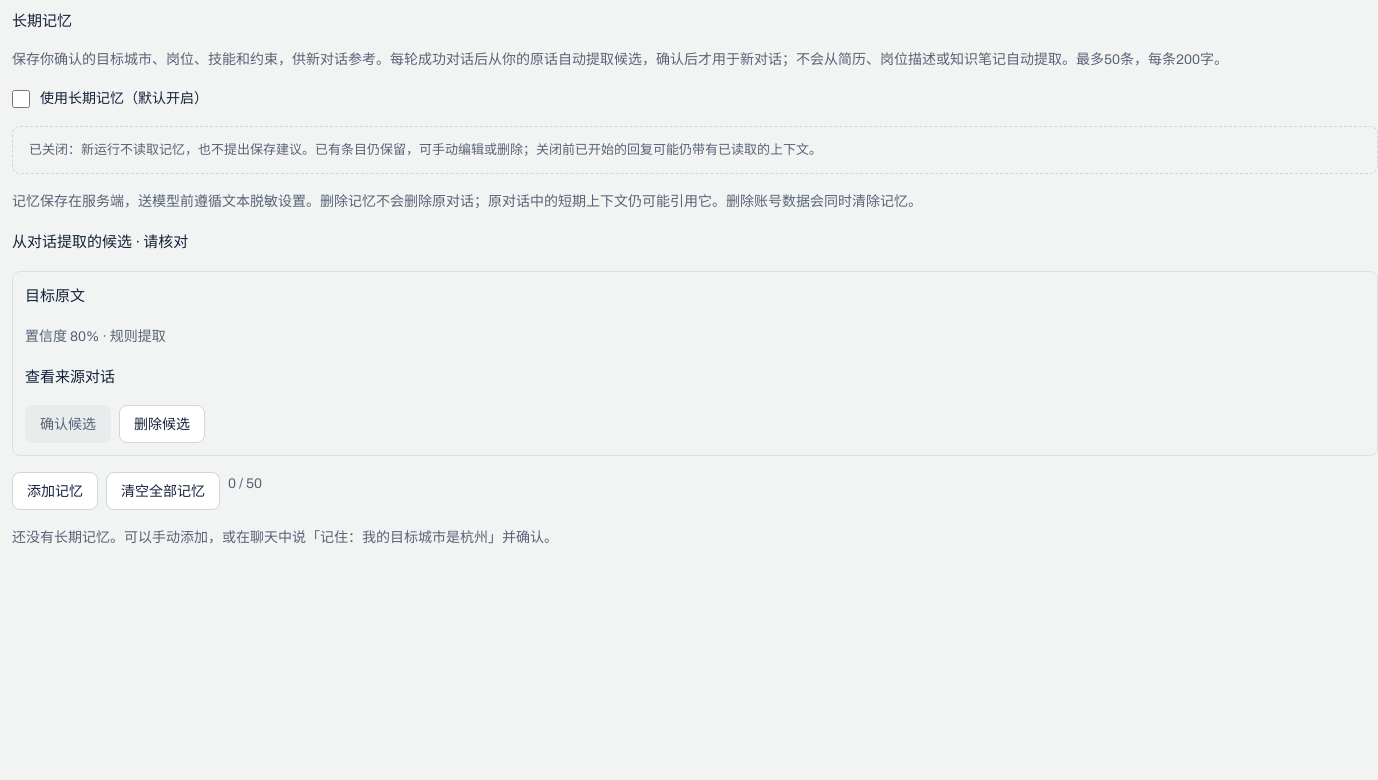
Test: allows clearing pending candidates even when no confirmed memories exist
Click the button "清空全部记忆": point(163, 491) [106,472,220,510]
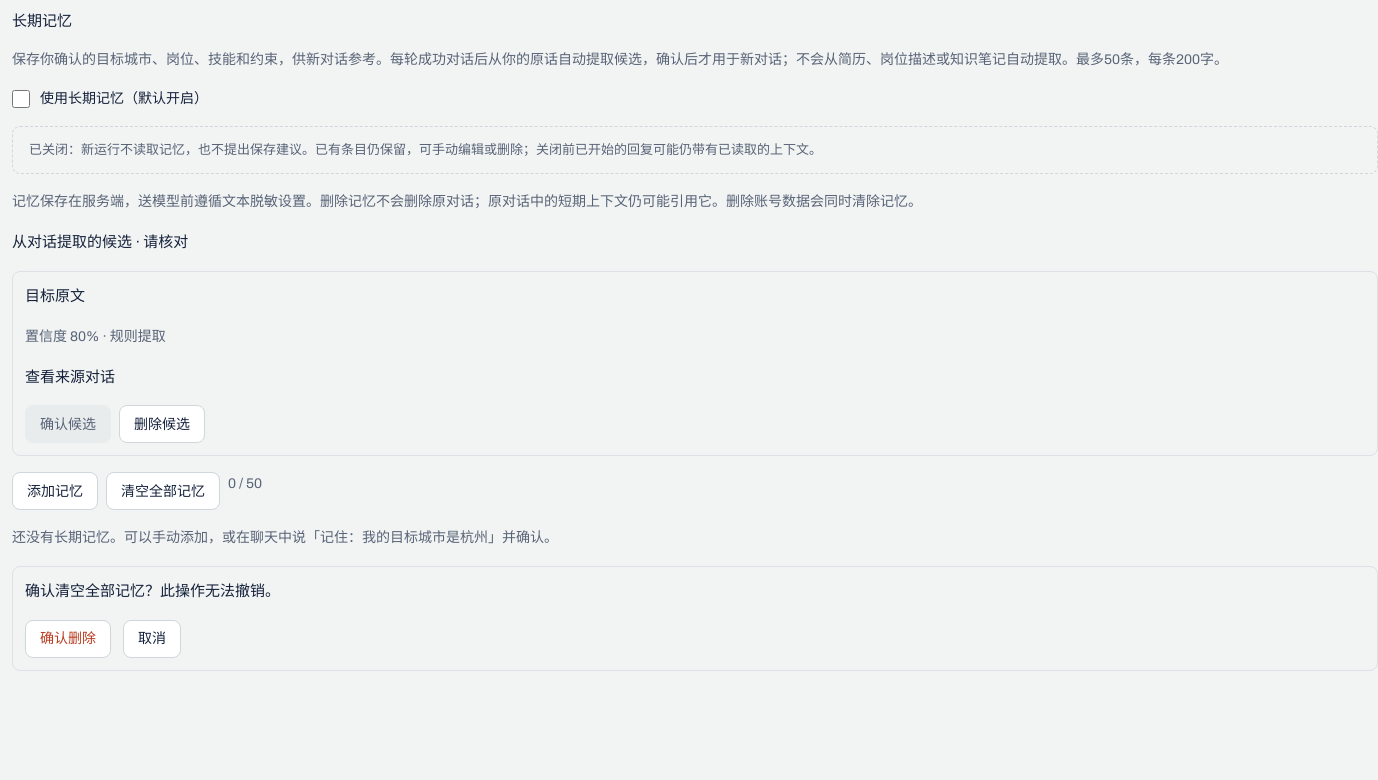
Click the button "确认删除": point(68, 639) [25,620,111,658]
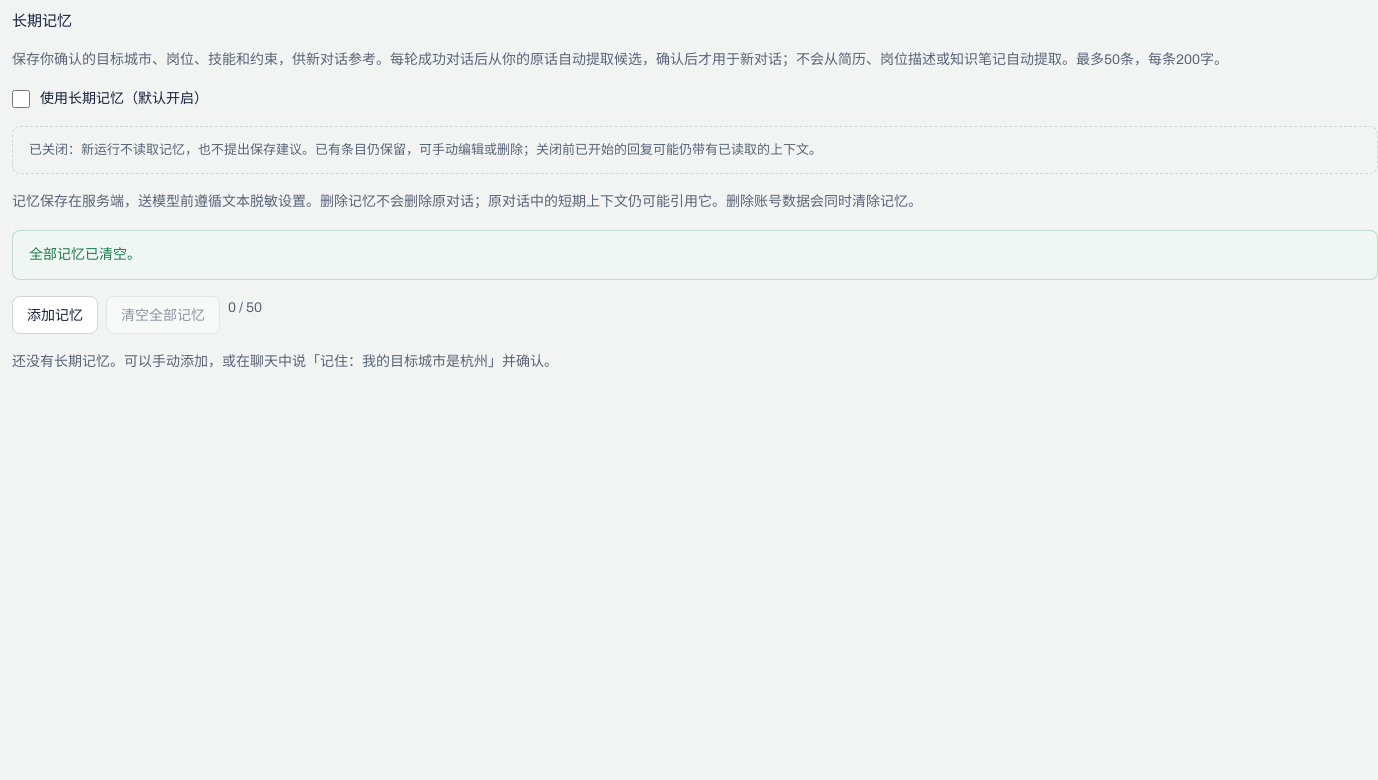
Expected: the element named "待确认记忆" is gone
Expected: the button "清空全部记忆" is disabled, [106,296,220,334]
